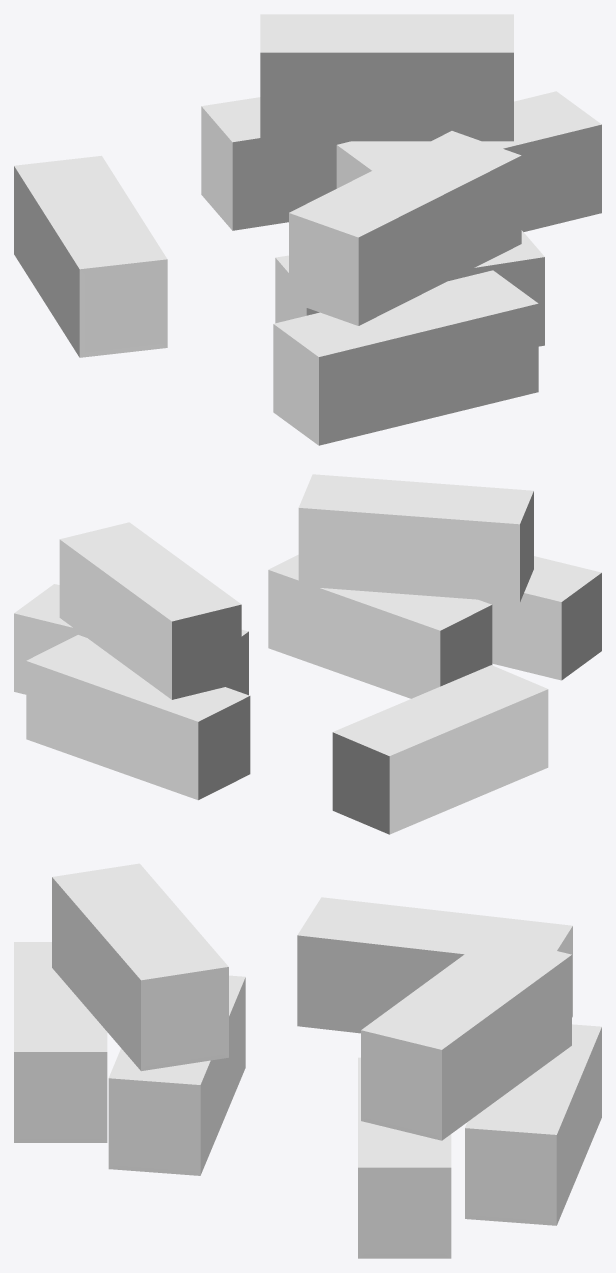
Rendered from Container3_Closed1.fbx.
The picture shows the model from 3 angles, top to bottom: view 1: azimuth 30°, elevation 25°; view 2: azimuth 150°, elevation 25°; view 3: azimuth 270°, elevation 25°; orthographic projection. The views are drawn at different scales.
Visible parts, largest first — view 1: Container3_Closed1; view 2: Container3_Closed1; view 3: Container3_Closed1.
Boxes of the visible parts, bbox=[...] form: Container3_Closed1: bbox=[14, 14, 601, 445]; Container3_Closed1: bbox=[14, 474, 601, 834]; Container3_Closed1: bbox=[14, 863, 601, 1258].
Bounding box in the file's own units: 1647 × 1513 × 525.
